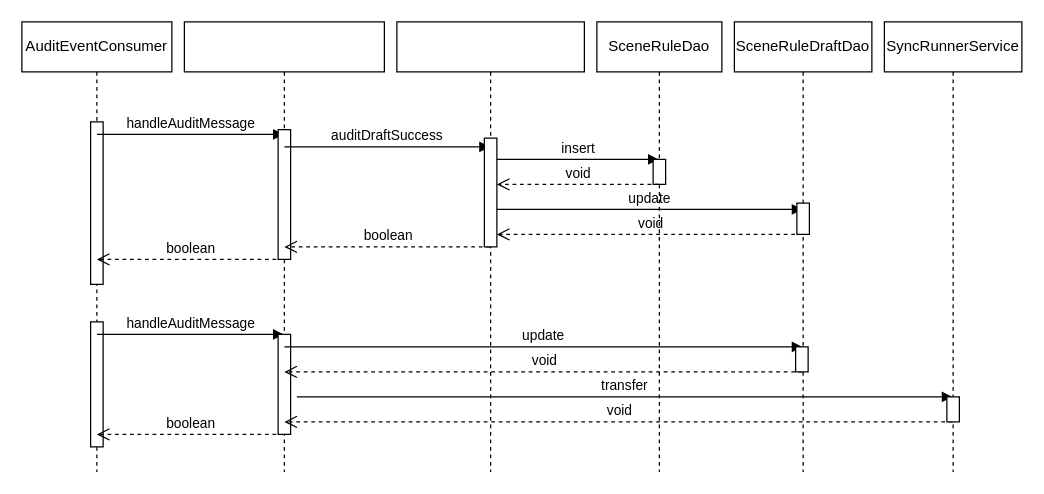
This 1044x494 diagram has some shape labels left out. Here are the shapes that lost their labels. From the top down, the box of each, then its label:
(183, 21, 384, 472): HandleAuditMessageService
(396, 21, 584, 472): SceneDraftRuleServiceImpl
